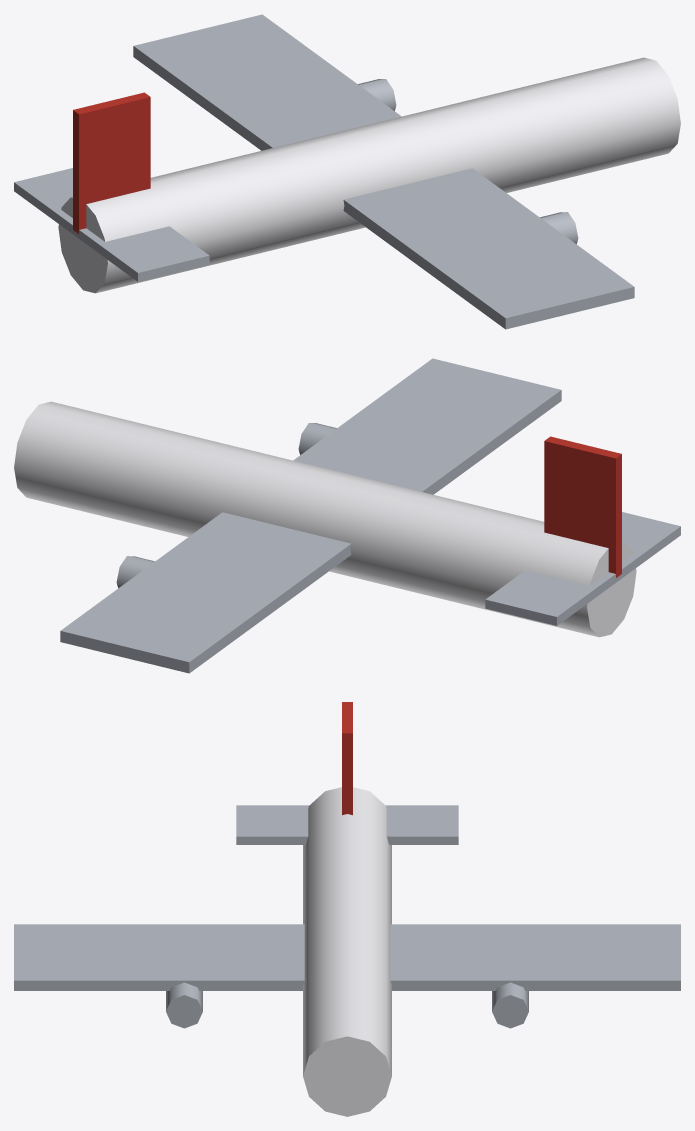
The picture shows the model from 3 angles, top to bottom: view 1: azimuth 30°, elevation 25°; view 2: azimuth 150°, elevation 25°; view 3: azimuth 270°, elevation 25°; orthographic projection. The views are drawn at different scales.
Parts seen in each view (by area): view 1: Fuselage, Wing, Tail, TailPlane, EngineL, EngineR; view 2: Fuselage, Wing, Tail, TailPlane, EngineL, EngineR; view 3: Wing, Fuselage, TailPlane, EngineL, EngineR, Tail.
Boxes of the visible parts, bbox=[...] form: Fuselage: bbox=[58, 57, 680, 293]; Wing: bbox=[133, 14, 634, 329]; Tail: bbox=[73, 92, 150, 233]; TailPlane: bbox=[14, 168, 209, 281]; EngineL: bbox=[358, 79, 396, 110]; EngineR: bbox=[540, 212, 578, 244]; Fuselage: bbox=[14, 401, 636, 637]; Wing: bbox=[60, 358, 561, 673]; Tail: bbox=[544, 436, 621, 577]; TailPlane: bbox=[485, 512, 680, 625]; EngineL: bbox=[116, 556, 154, 588]; EngineR: bbox=[298, 423, 336, 454]; Wing: bbox=[14, 924, 680, 990]; Fuselage: bbox=[303, 787, 391, 1116]; TailPlane: bbox=[236, 805, 458, 844]; EngineL: bbox=[492, 982, 528, 1028]; EngineR: bbox=[166, 982, 202, 1028]; Tail: bbox=[342, 702, 352, 815].
Bounding box in the file's own units: 0.81 × 0.24 × 0.9.
